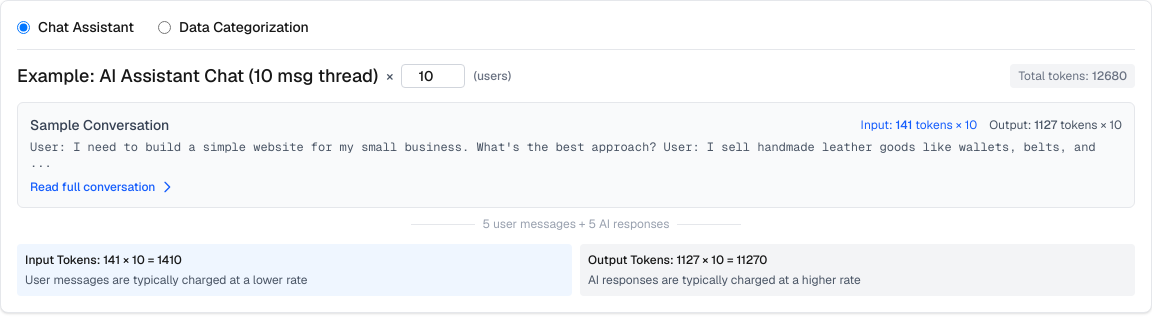
it: TextInputArea › updates user multiplier when input changes
This screenshot has width=1152, height=331.
// Change multiplier to 100
Replace the text in the number field named "Number of users" with "100" at (433, 76), box x1=401 y1=64 x2=465 y2=88
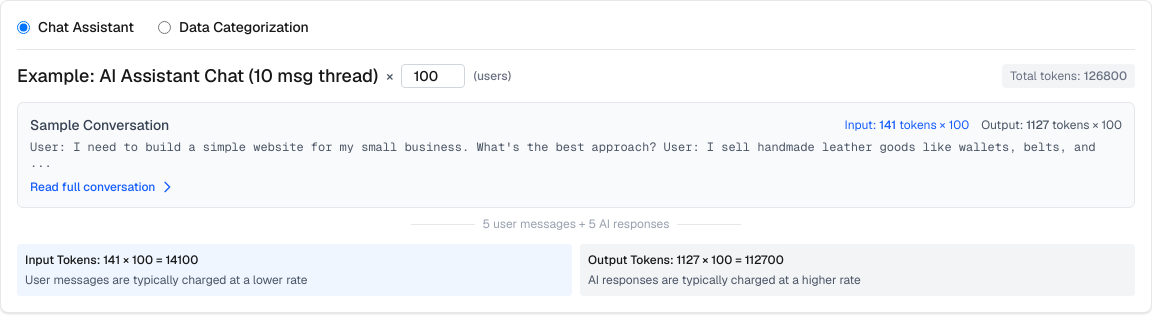
// Try an extremely large value that should be capped
Replace the text in the number field named "Number of users" with "5000" at (433, 76), box x1=401 y1=64 x2=465 y2=88
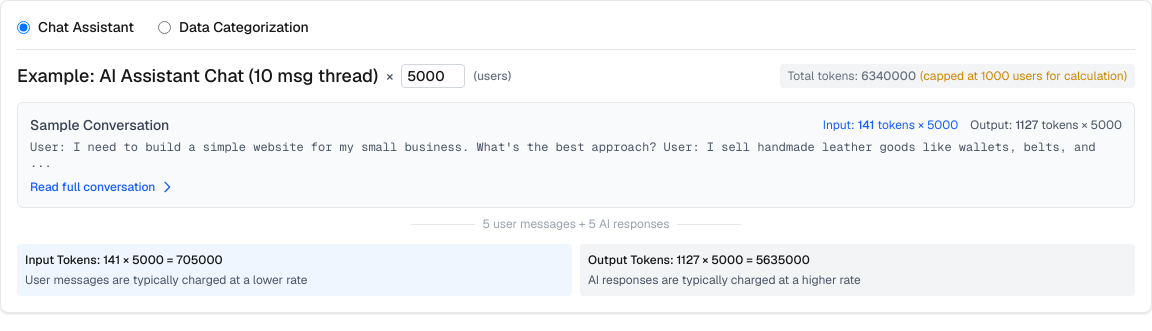
Now the text "(capped at 1000 users for calculation)" is shown, box x1=920 y1=68 x2=1127 y2=84
